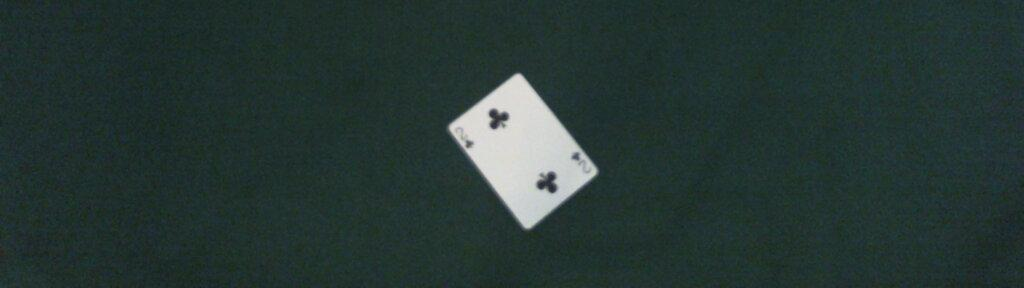two: (447, 72, 601, 230)
